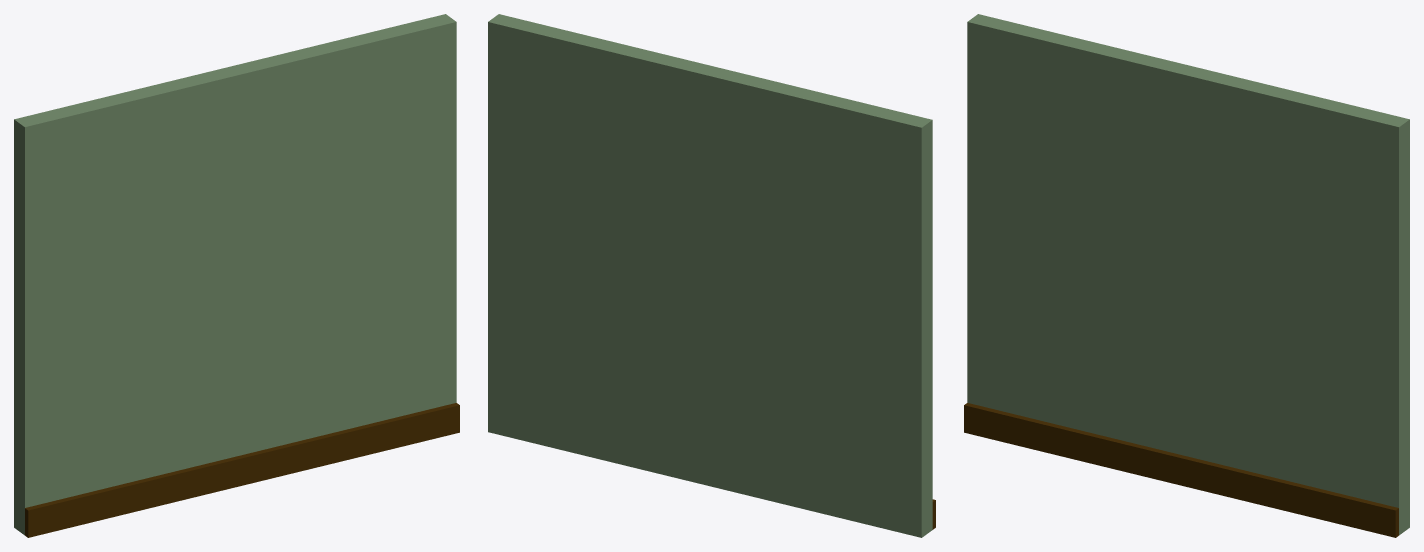
The model's file is Ma_Wall_Big.fbx.
3 views of the same model, side by side, from view 1: azimuth 30°, elevation 25°; view 2: azimuth 150°, elevation 25°; view 3: azimuth 330°, elevation 25° (orthographic).
Parts seen in each view (by area): view 1: Ma_Wall_Big; view 2: Ma_Wall_Big; view 3: Ma_Wall_Big.
Boxes of the visible parts, <box> form: Ma_Wall_Big: <box>14,14,459,537</box>; Ma_Wall_Big: <box>488,14,935,537</box>; Ma_Wall_Big: <box>964,14,1409,537</box>.
Size of the model in its own units: 3000 by 170 by 2711.
